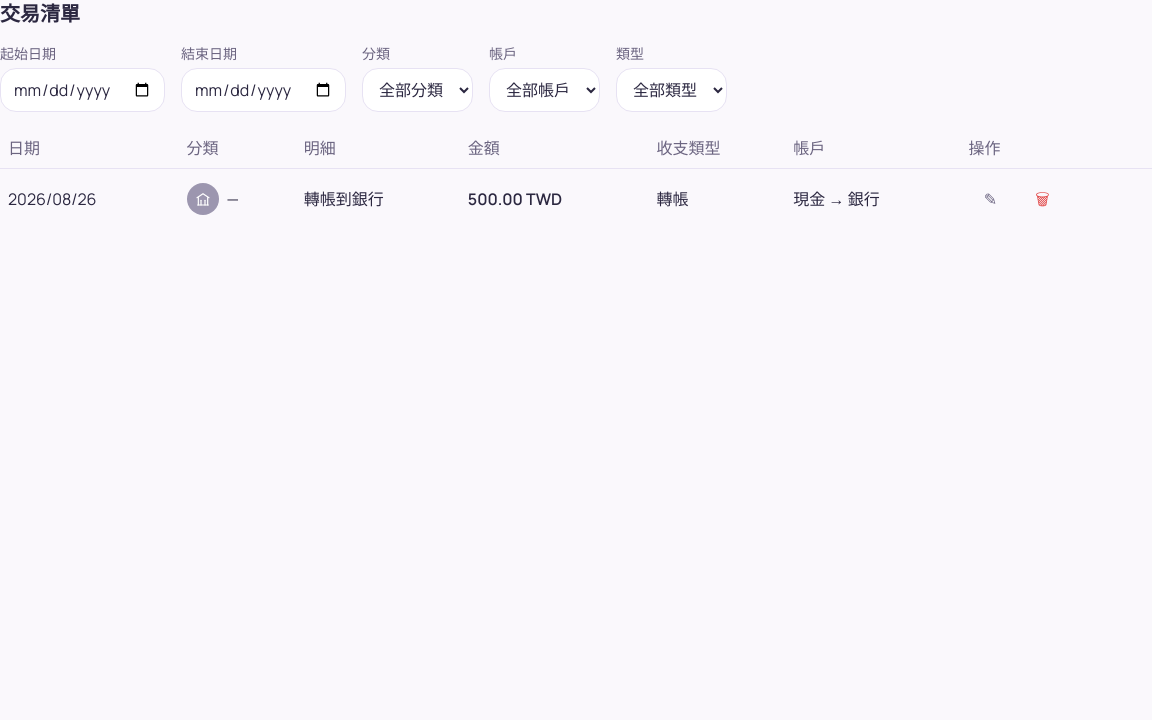
Scenario: TransactionList › 轉帳列 › 點轉帳列開啟編輯表單，還原轉出/轉入帳戶（不是分類欄位）
Click the button named "編輯" at (990, 199), box [968,177,1012,221]
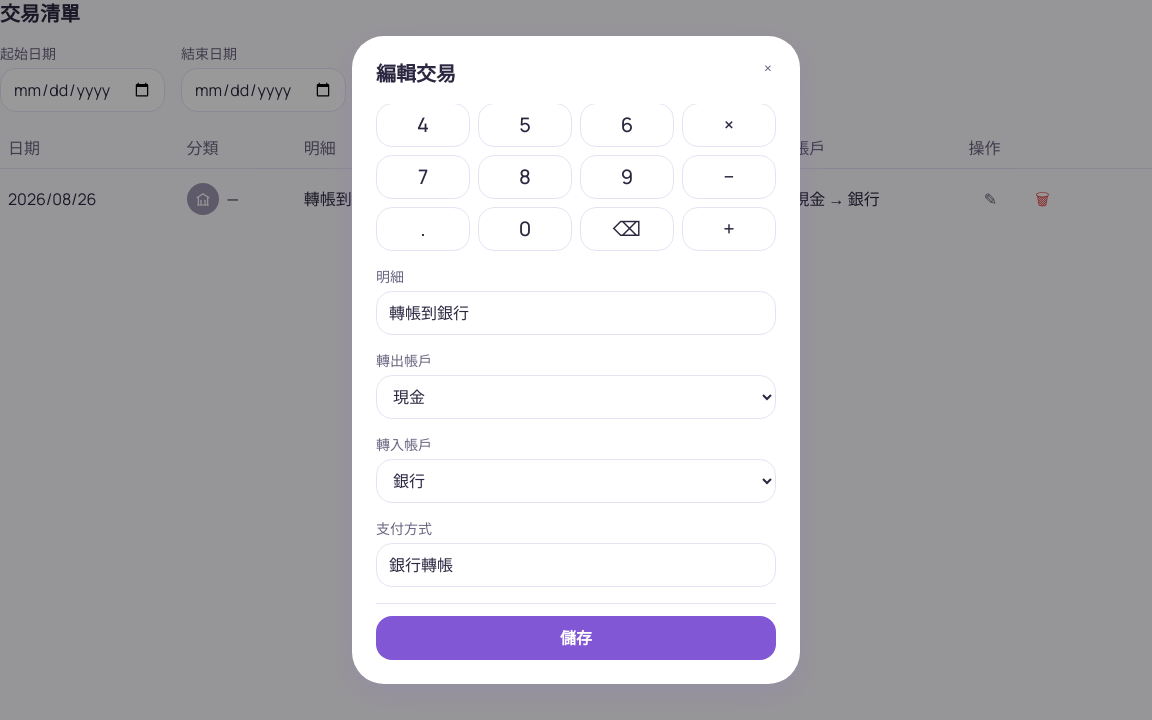
Result: the dropdown labelled "轉出帳戶" shows "現金" at [376,375,776,419]
Result: the dropdown labelled "轉入帳戶" shows "銀行" at [376,459,776,503]
